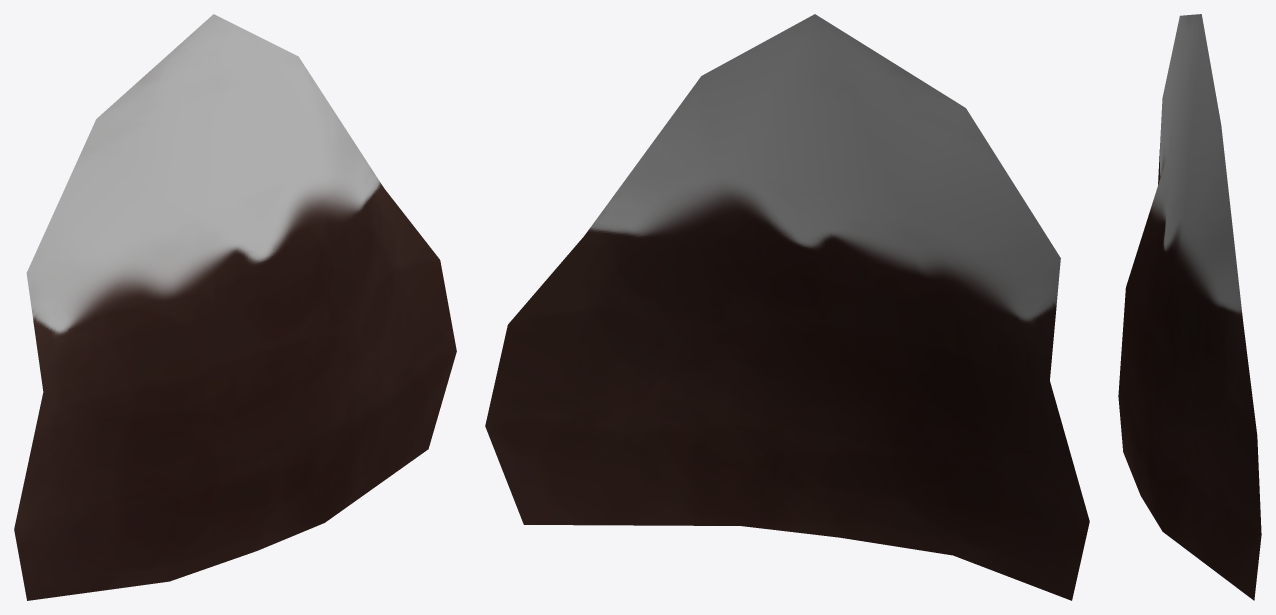
Rendered from Mountains_002.fbx.
The picture shows the model from 3 angles, left to right: view 1: azimuth 30°, elevation 25°; view 2: azimuth 150°, elevation 25°; view 3: azimuth 270°, elevation 25°; orthographic projection. The views are drawn at different scales.
Visible parts, largest first — view 1: pCube5; view 2: pCube5; view 3: pCube5.
Part boxes in pixels (x1,y1,x2,y2): pCube5: (14,14,456,600); pCube5: (485,14,1089,600); pCube5: (1118,14,1261,600).
Size of the model in its own units: 62.95 by 61.57 by 16.75.
